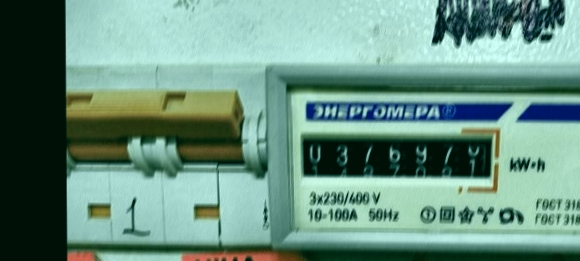0: (305, 141, 319, 163)
1: (463, 157, 475, 177)
3: (332, 144, 347, 166)
6: (384, 139, 399, 162)
7: (357, 141, 372, 164), (438, 142, 452, 165)
9: (410, 141, 425, 164)
screen: (289, 123, 500, 197)
